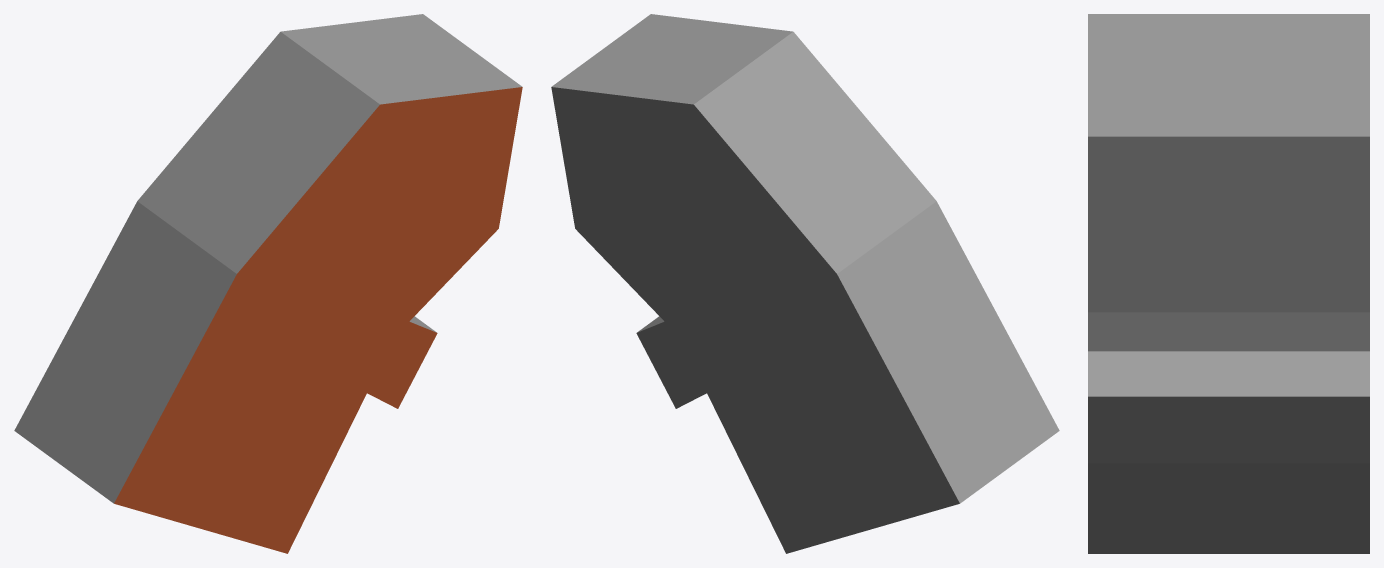
The model's file is construction_5190_assumed_A_Casa_h6m.obj.
The picture shows the model from 3 angles, left to right: view 1: azimuth 30°, elevation 25°; view 2: azimuth 150°, elevation 25°; view 3: azimuth 270°, elevation 25°; orthographic projection. The views are drawn at different scales.
Visible parts, largest first — view 1: construction_5190_assumed_A_Casa; view 2: construction_5190_assumed_A_Casa; view 3: construction_5190_assumed_A_Casa.
Part boxes in pixels (bbox=[...]): construction_5190_assumed_A_Casa: bbox=[14, 14, 522, 553]; construction_5190_assumed_A_Casa: bbox=[551, 14, 1059, 553]; construction_5190_assumed_A_Casa: bbox=[1088, 14, 1369, 553].
Bounding box in the file's own units: 14.21 × 14.18 × 6.
